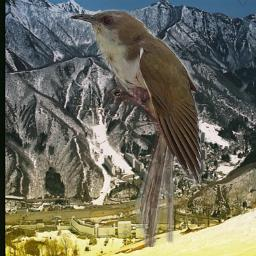Cuckoo: (69, 8, 201, 247)
